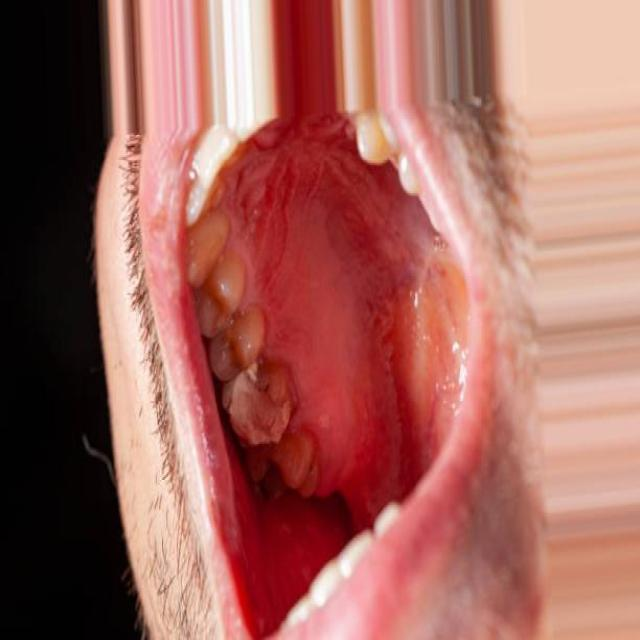caries: (223, 370, 291, 450)
